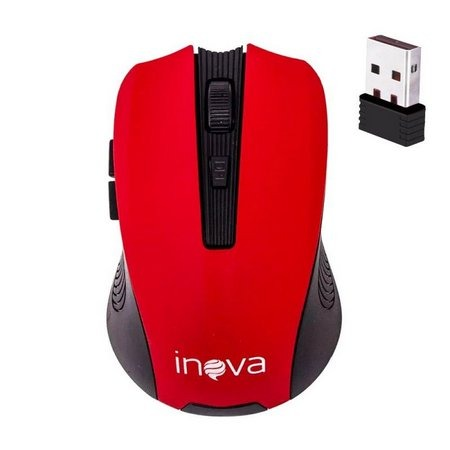mouse: (82, 34, 348, 417)
